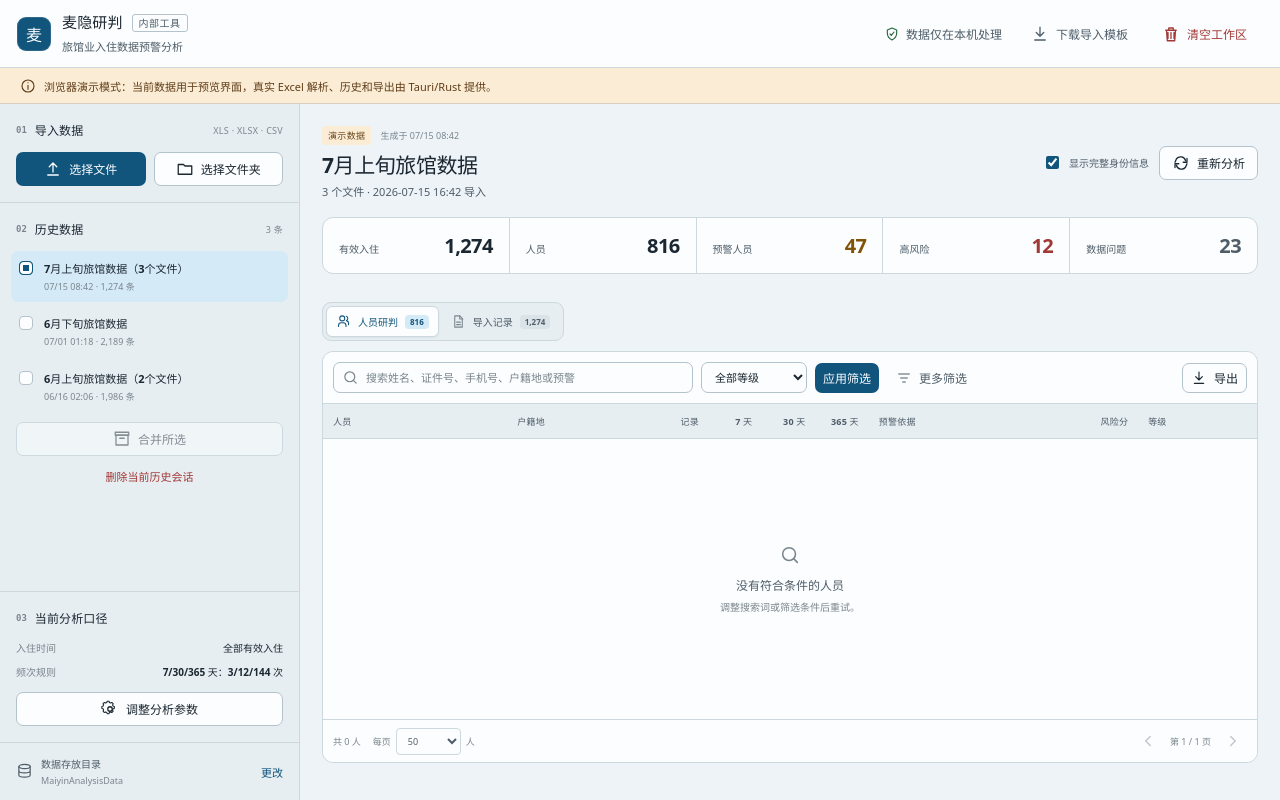
it: App › rejects an inverted records age range without applying it
This screenshot has width=1280, height=800.
expect the heading "7月上旬旅馆数据" is shown: met, box [322,152,486,178]
Click the tab "导入记录 1,274".
click(500, 322)  # box [441,306,560,337]
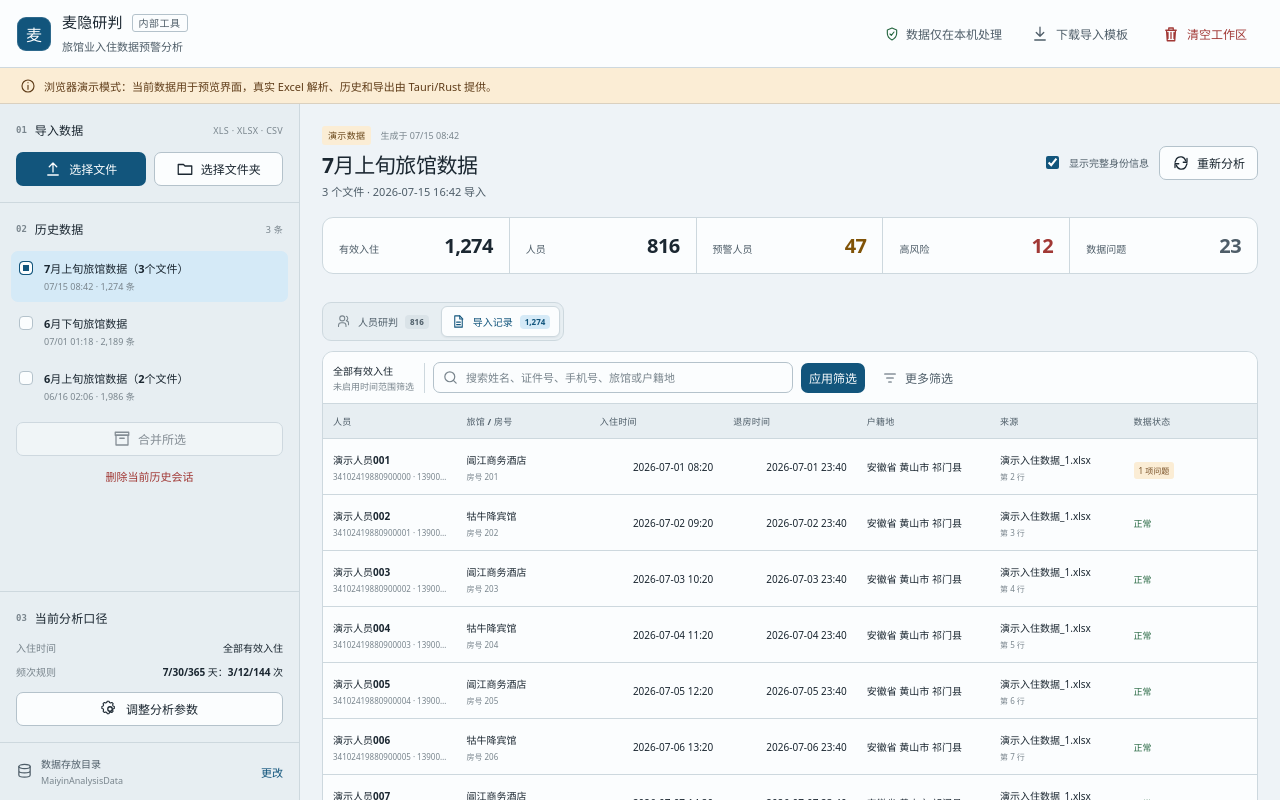
expect the text "演示人员001" is shown: met, box [333,453,390,467]
Click the button "更多筛选".
click(918, 378)  # box [873,363,962,393]
(page scrolled)
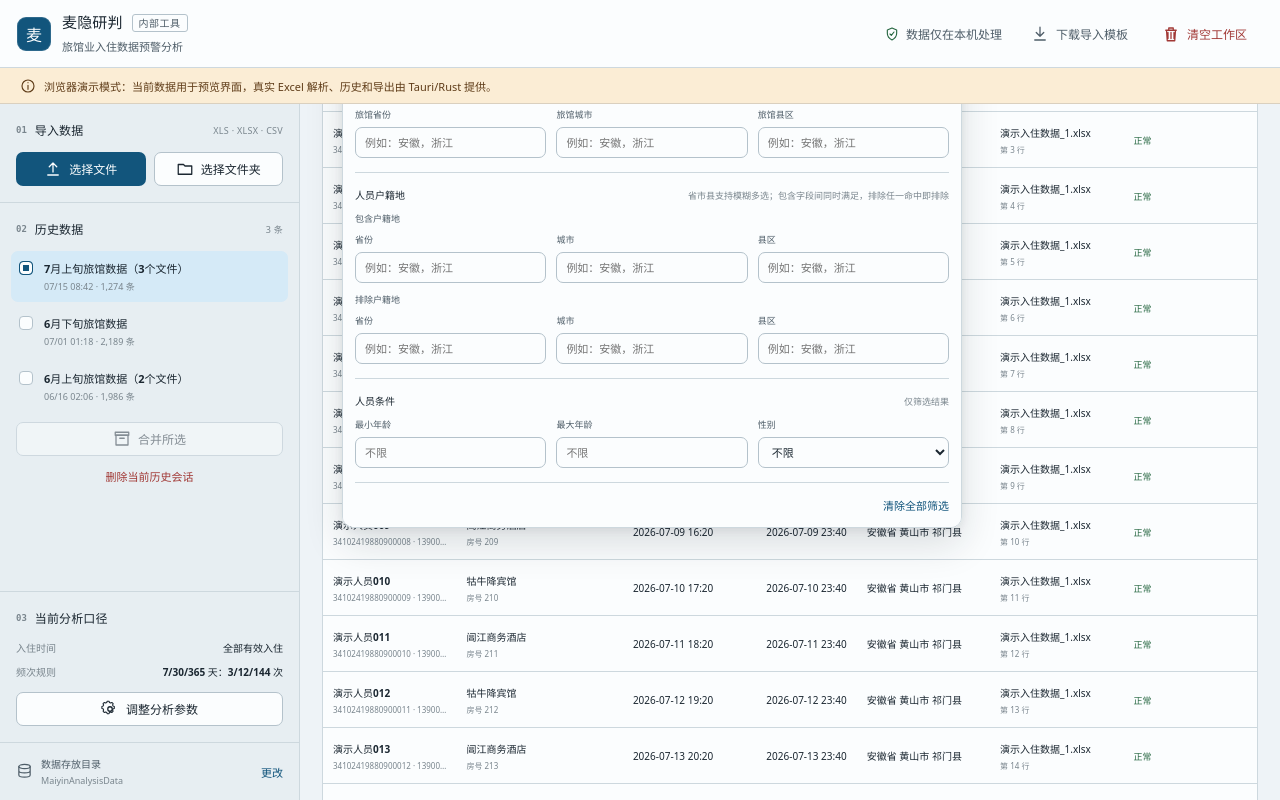
Type "40" into the number field labelled "最小年龄".
click(451, 452); type("40")  # box [355,437,546,468]
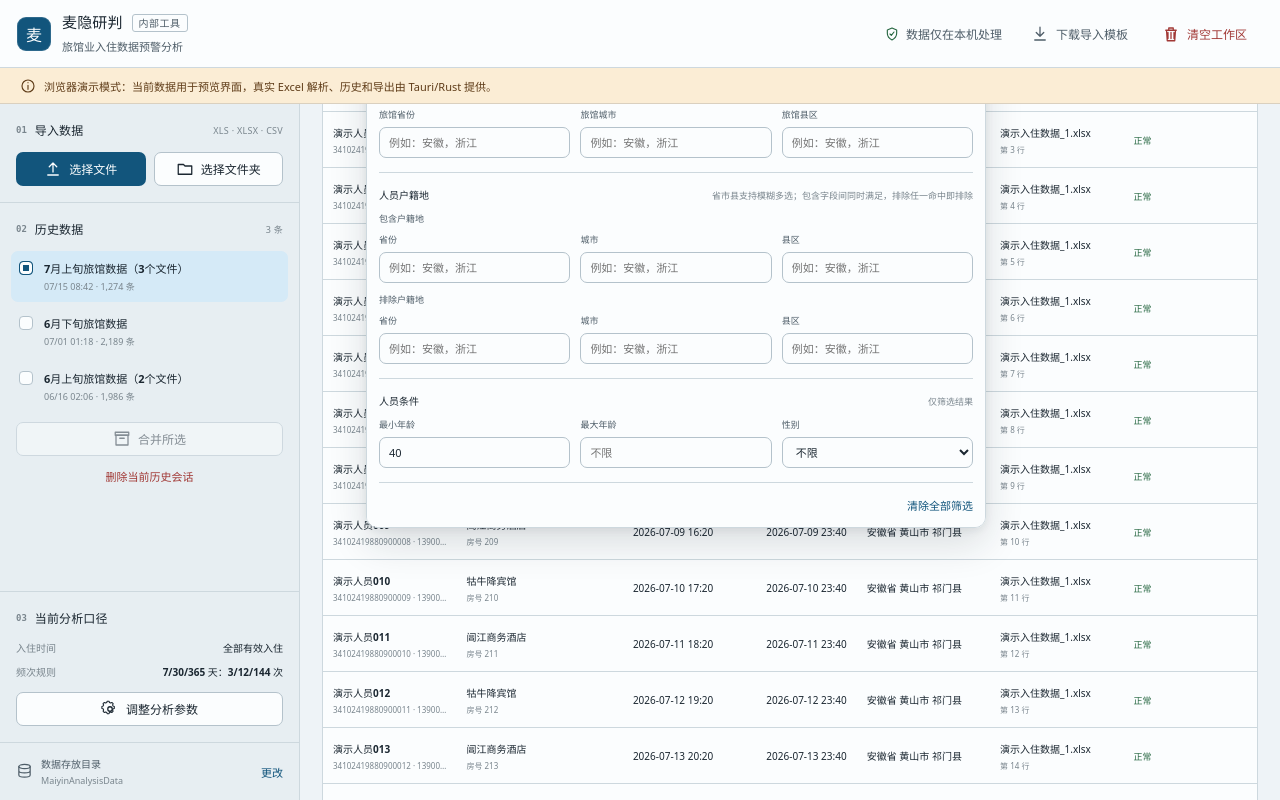
Type "20" into the number field labelled "最大年龄".
click(676, 452); type("20")  # box [580,437,772,468]
(page scrolled)
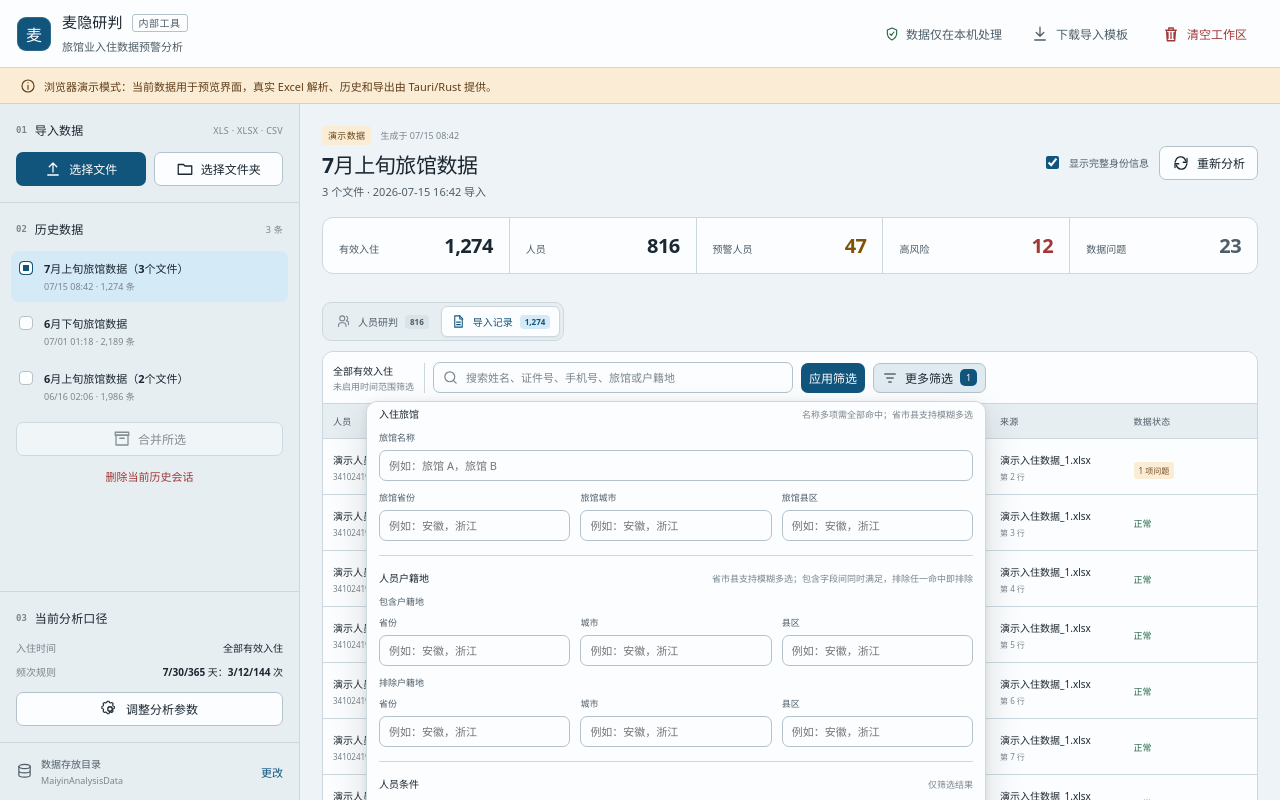
Click the button "应用筛选".
click(833, 378)  # box [801,363,865,393]
(page scrolled)
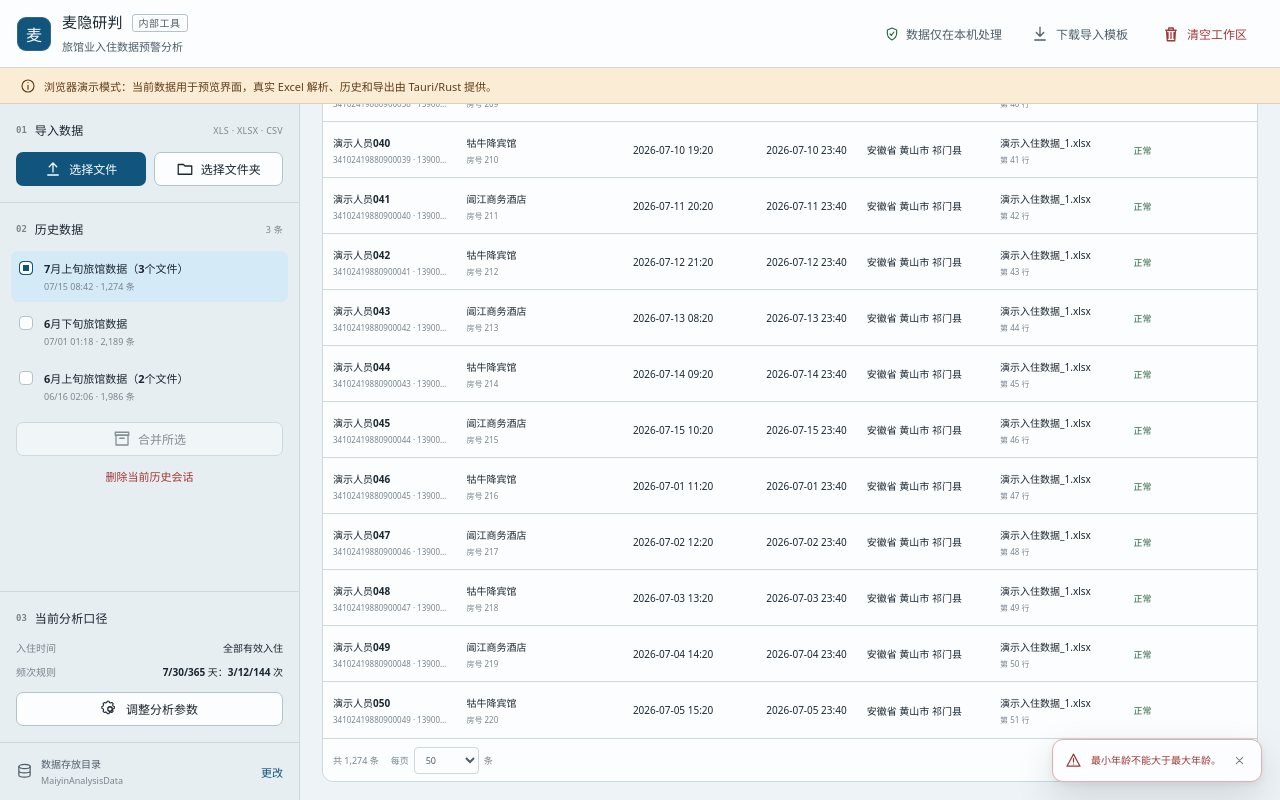
expect the text "最小年龄不能大于最大年龄。" is shown: met, box [1091,753,1221,768]
expect the text "共 1,274 条" is shown: met, box [333,754,379,767]
